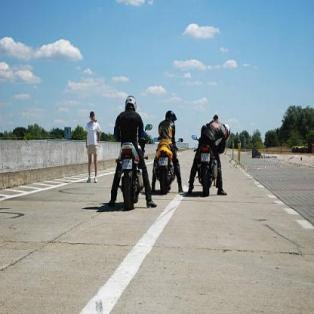Motocicleta: (114, 138, 146, 214), (154, 128, 180, 203), (196, 132, 219, 202)
